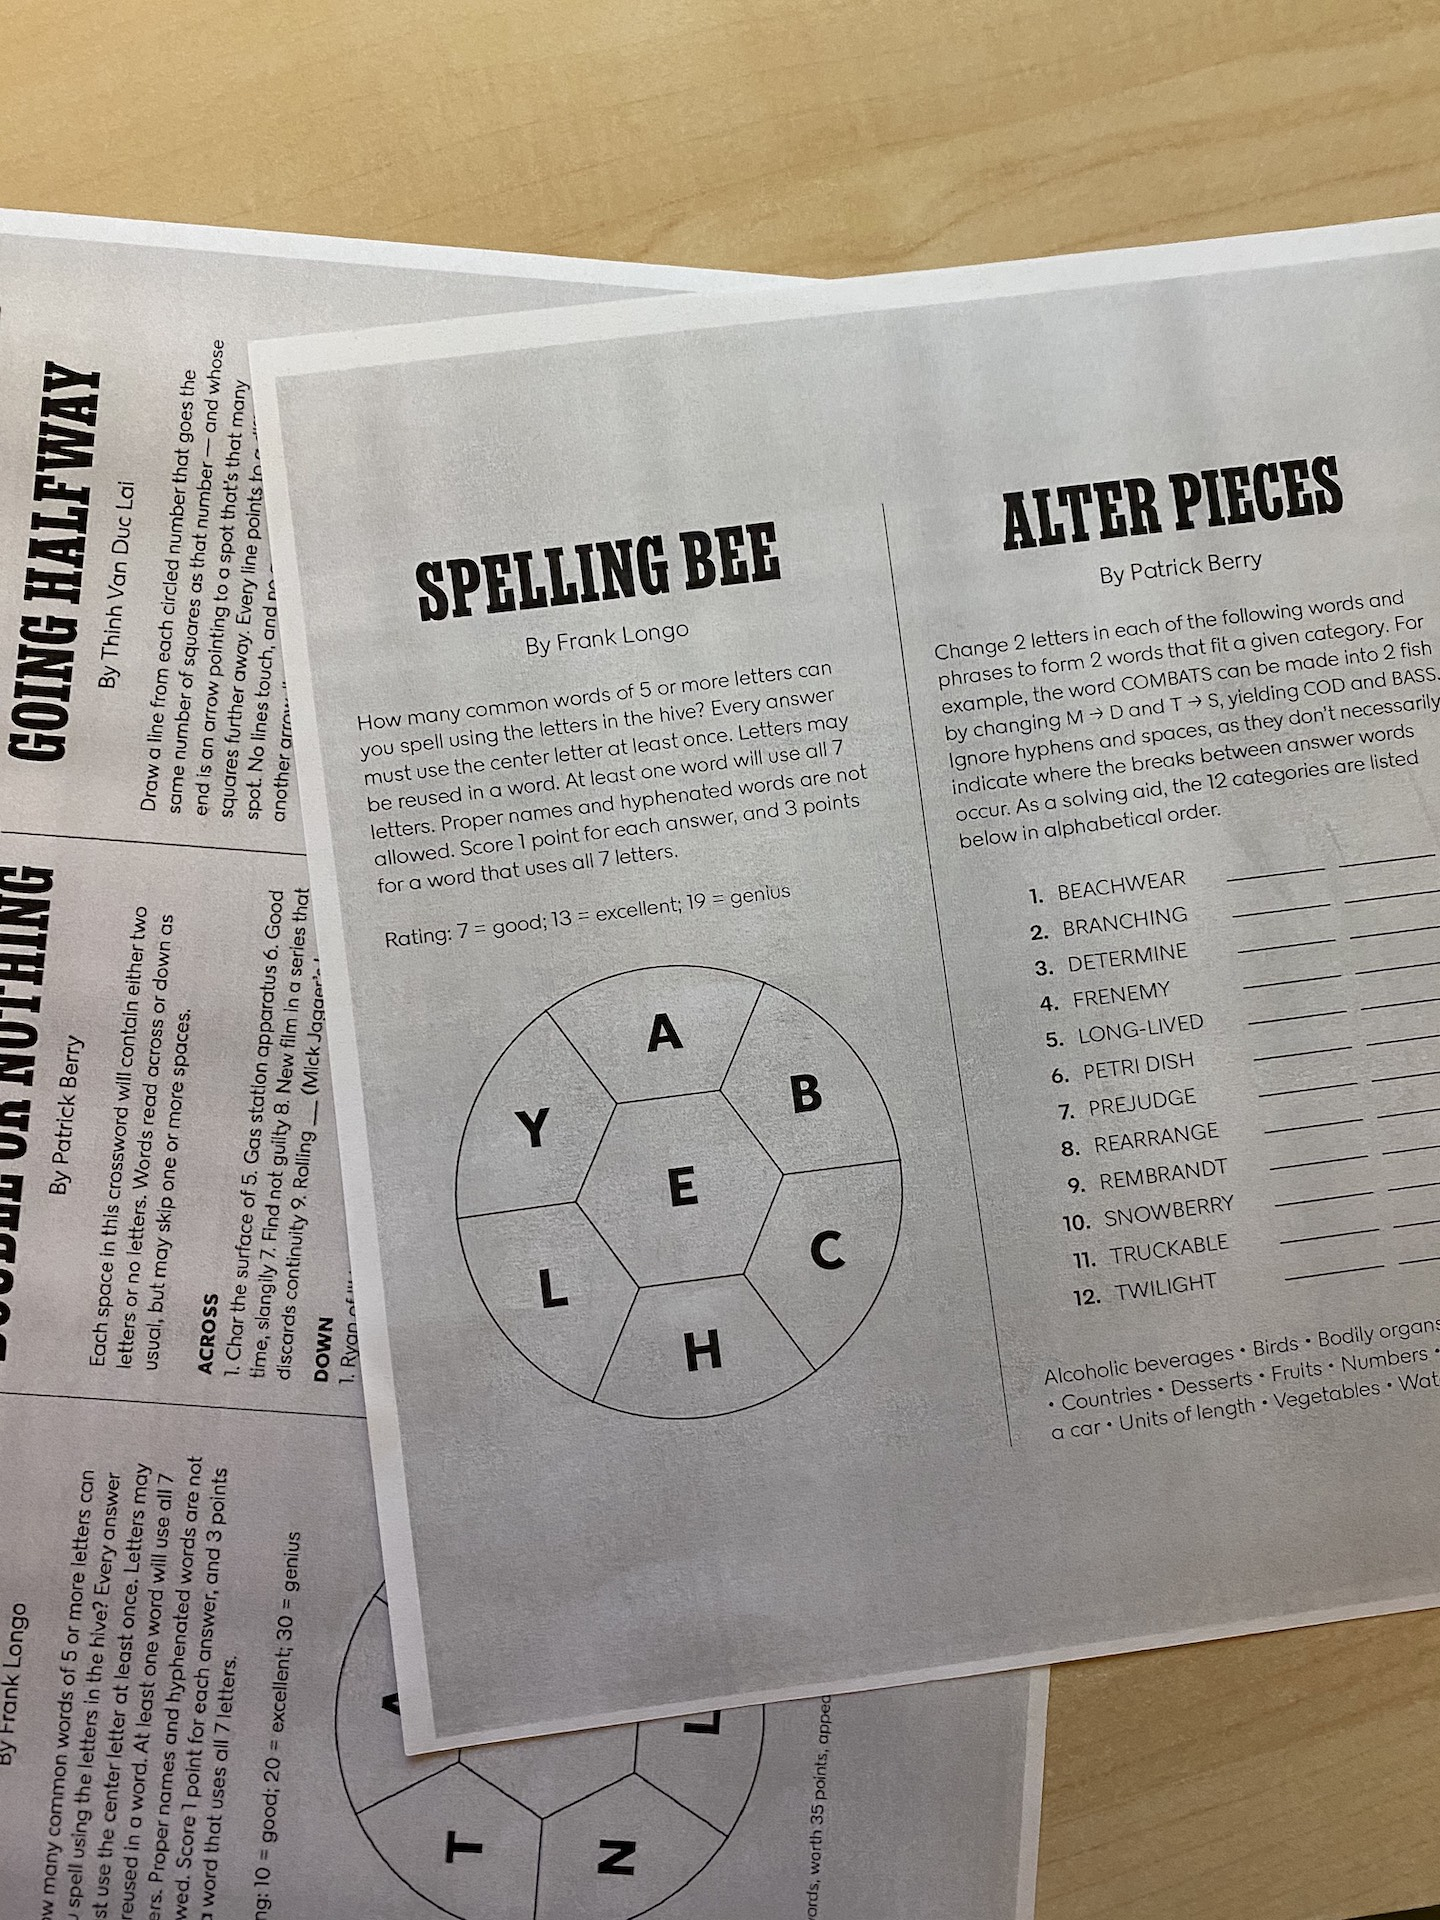PrintBoard: (439, 955, 920, 1435)
